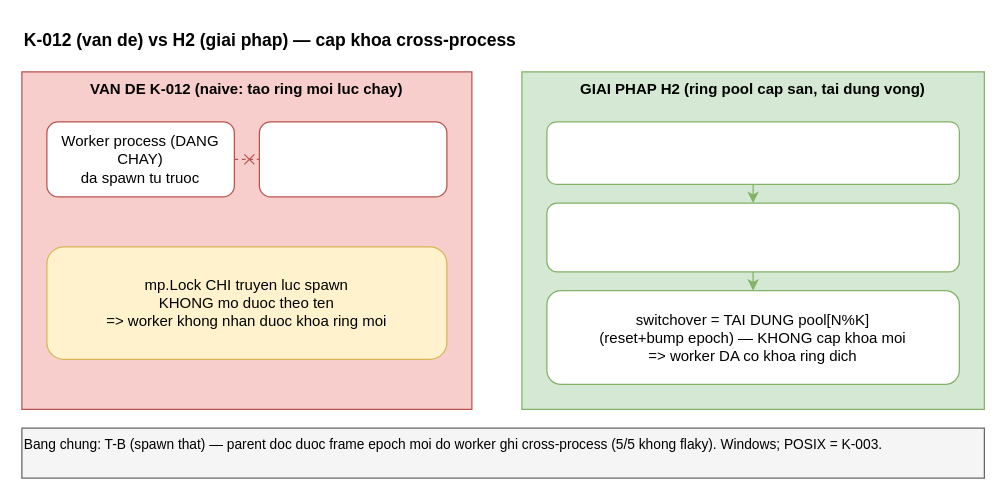
Some shapes in this 1006 by 500 pixel diagram are drawn without their labels. Here are the shapes that lost their labels. From the top down, the centre of each, then its label:
At (x=352, y=159): "mp.Lock cua RING MOI (sinh luc chay)".
At (x=752, y=152): "STARTUP: RingPool tao K ring + slot_locks_map (toan bo khoa)".
At (x=752, y=237): "spawn Worker(args=slot_locks_map) => Worker THUA KE khoa CUA MOI ring pool".
